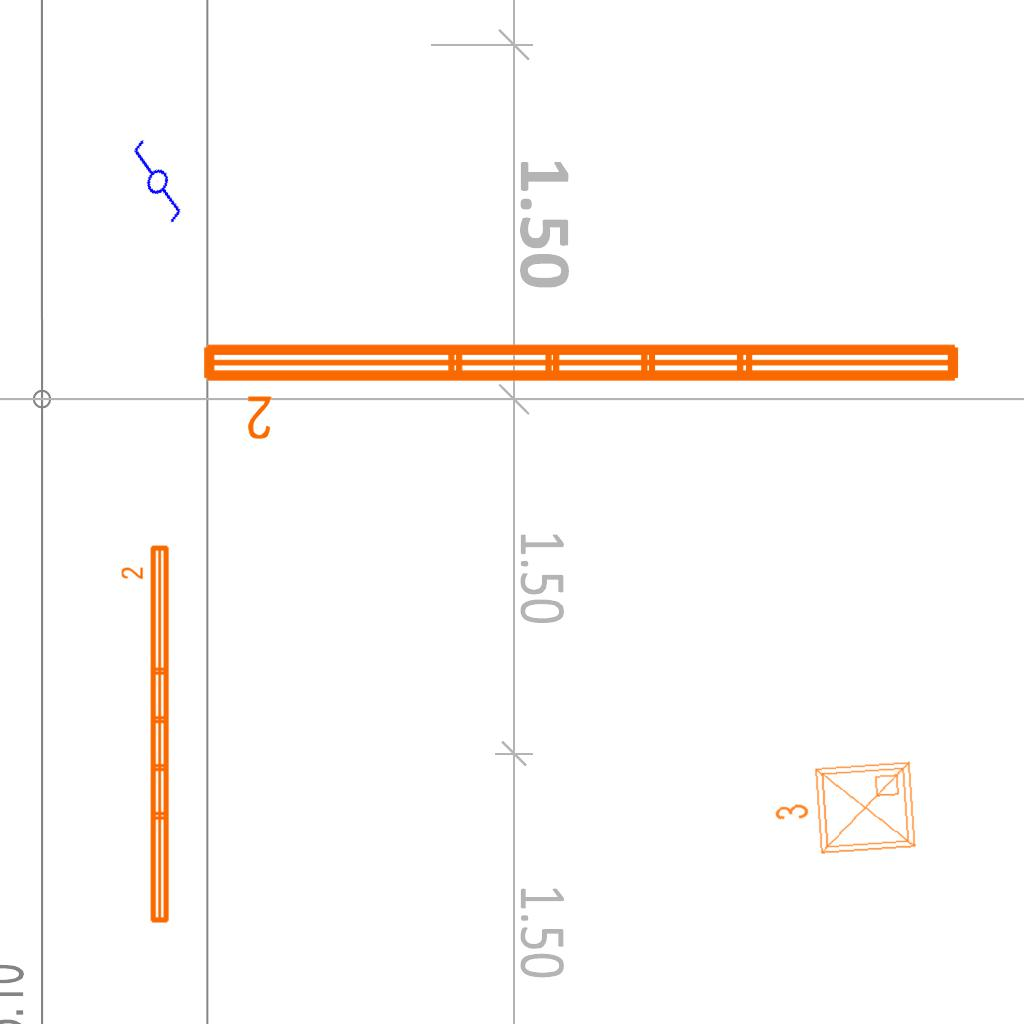Ambulanz_Pendelleuchte_LED: (195, 332, 969, 444), (119, 541, 175, 928)
Einbaudownlights_LED_Konferenzraeume: (766, 753, 924, 869)
Wechselschalter: (107, 135, 203, 235)
